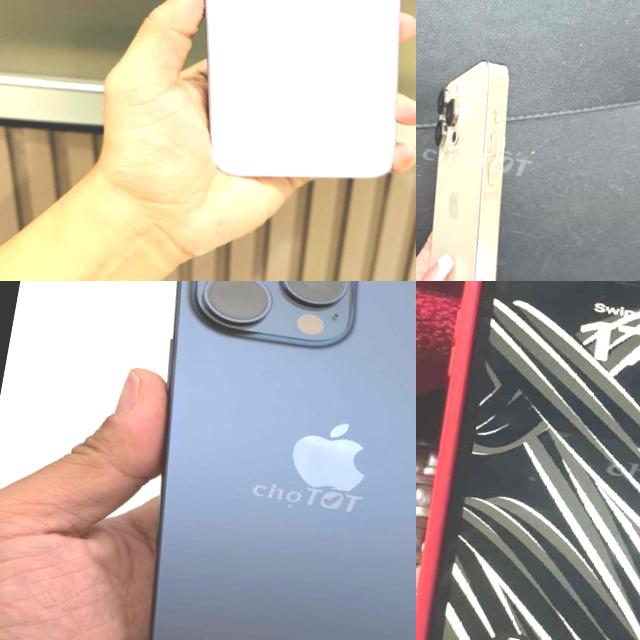gen_14: (154, 0, 416, 202), (416, 45, 567, 281)
gen_15: (71, 281, 416, 640)
gen_x_xs: (416, 281, 640, 640)
